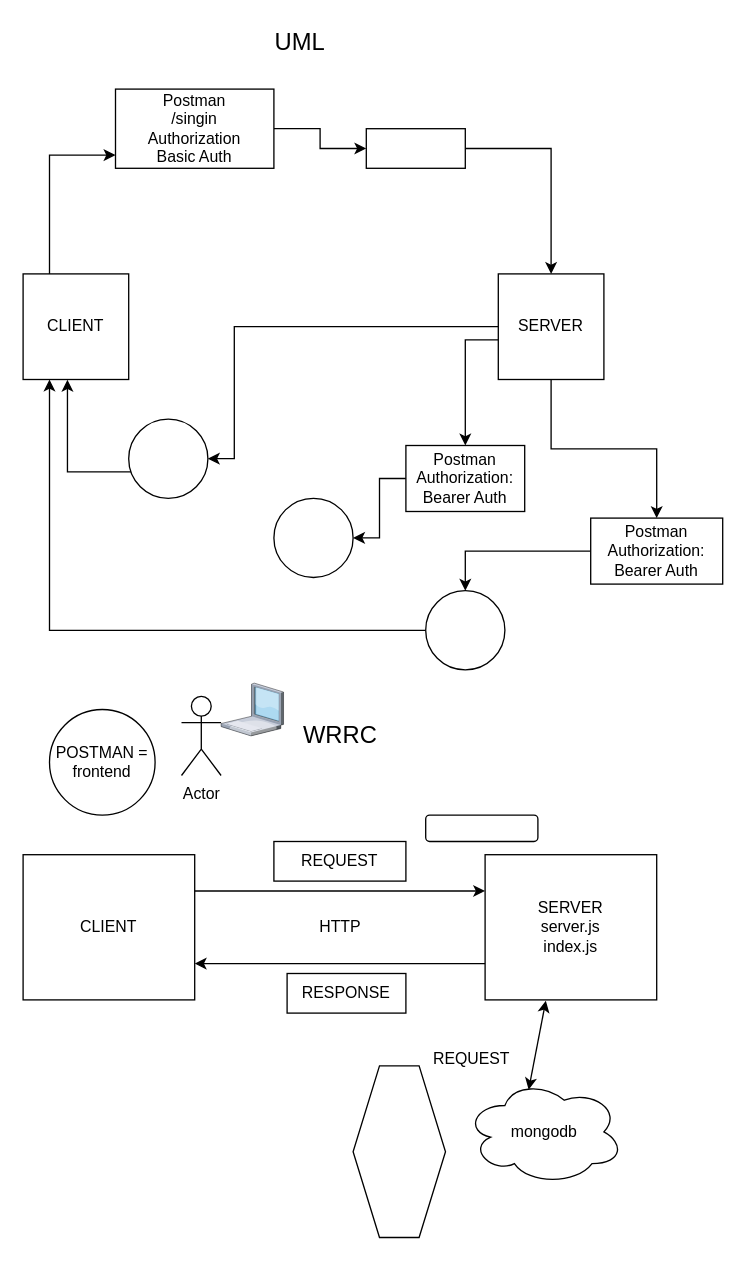
Image size: 746x1261. Some labels were removed from this diagram. The centre of each missing label's shape, as x and y in pixels:
ADMIN route: pixel 464 629
EDITOR route: pixel 313 537
Express: pixel 481 828
GET POST PUT DELETE: pixel 399 1151
USER route: pixel 167 458
user token: pixel 415 147
